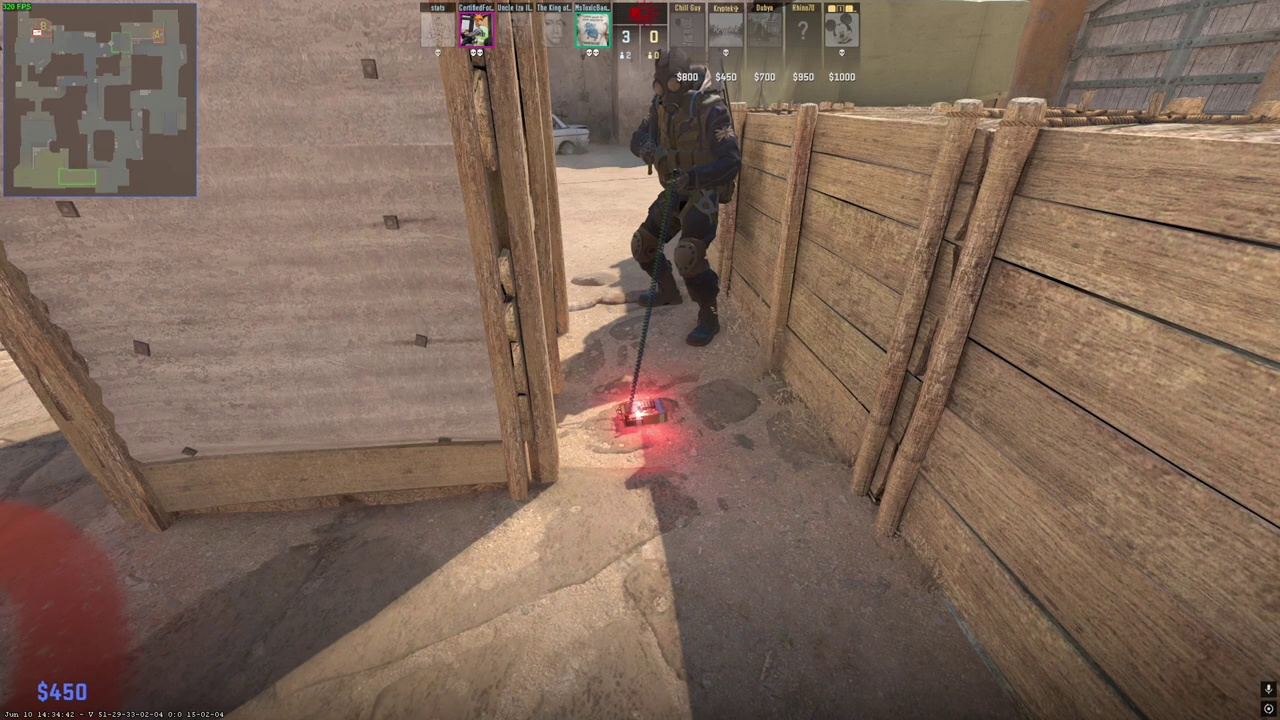CT: (631, 47, 738, 344)
